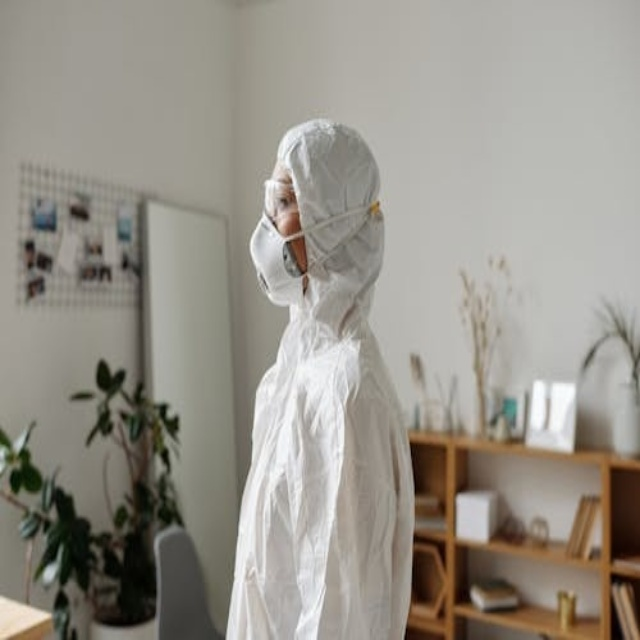Gafas: (255, 169, 306, 222)
Mascara: (244, 205, 319, 316)
